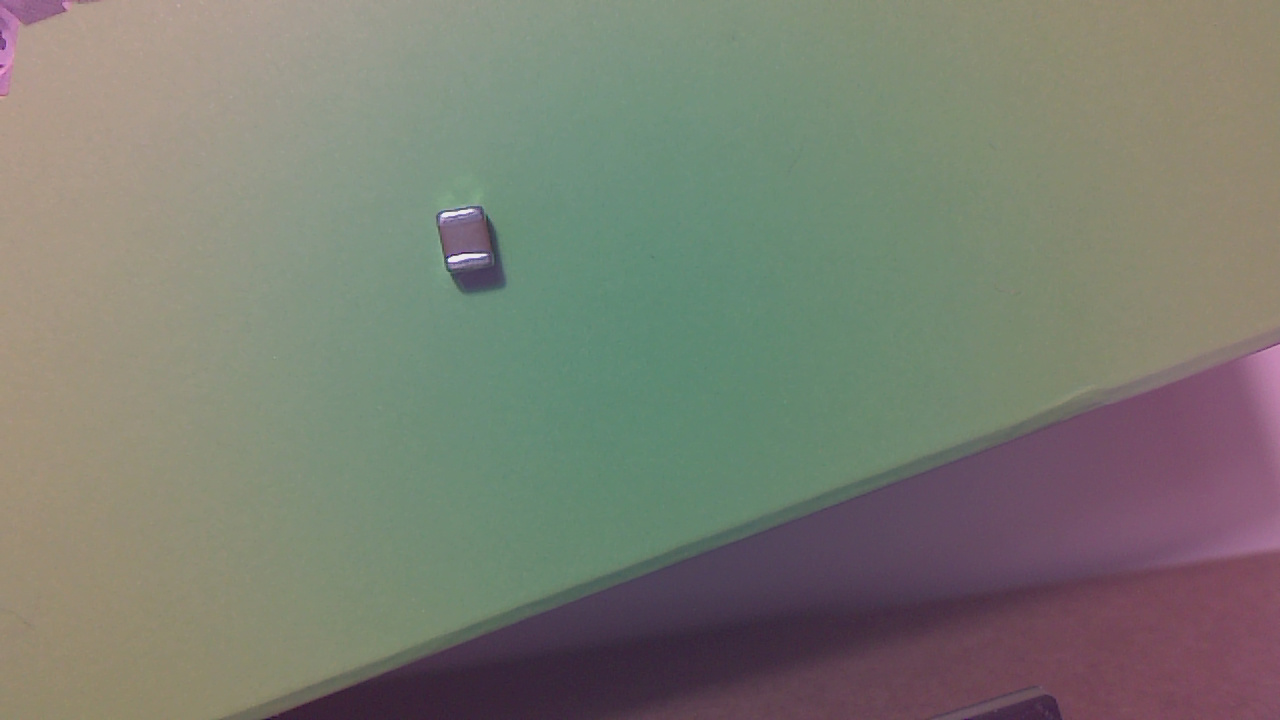Condensator: (438, 210, 501, 280)
